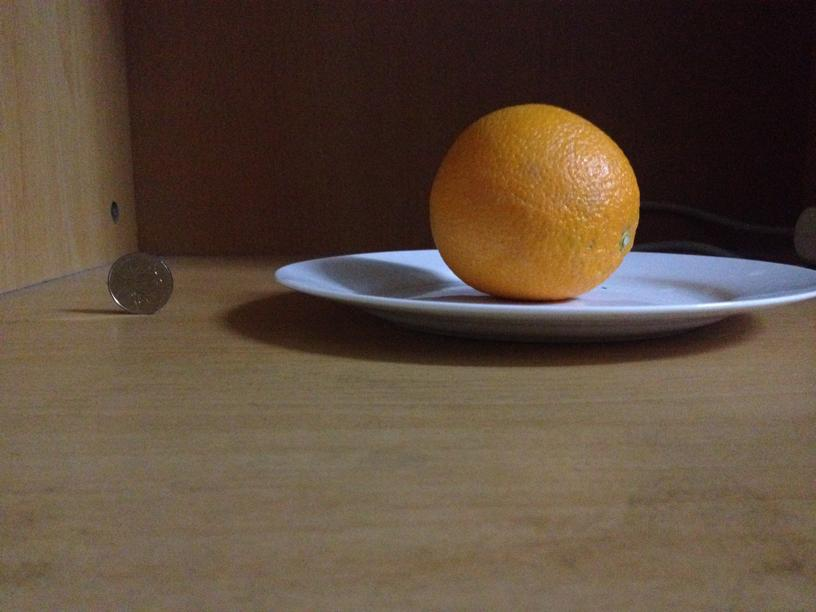coin: (109, 253, 172, 314)
orange: (429, 103, 644, 299)
